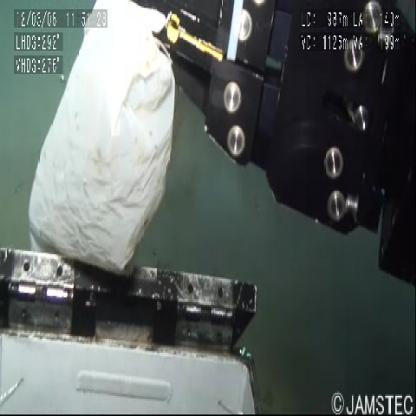Rov: (158, 1, 416, 306), (2, 223, 274, 416)
Rác: (20, 2, 186, 288)
